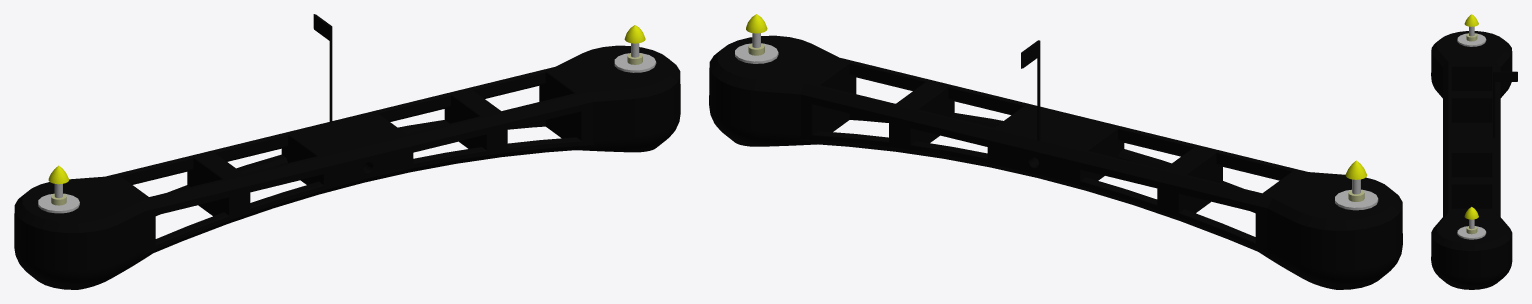
File: Palanca.fbx
The picture shows the model from 3 angles, left to right: view 1: azimuth 30°, elevation 25°; view 2: azimuth 150°, elevation 25°; view 3: azimuth 270°, elevation 25°; orthographic projection. The views are drawn at different scales.
Visible parts, largest first — view 1: Palanca:mesh1, Palanca:mesh2Saliente_Extruir2, Palanca1:mesh4Chaflán1; view 2: Palanca:mesh1, Palanca:mesh2Saliente_Extruir2, Palanca1:mesh4Chaflán1; view 3: Palanca:mesh1, Palanca:mesh2Saliente_Extruir2, Palanca1:mesh4Chaflán1, Palanca:mesh3Chaflán5face.
Part boxes in pixels (bbox=[...]): Palanca:mesh1: bbox=[14, 14, 680, 289]; Palanca:mesh2Saliente_Extruir2: bbox=[38, 43, 656, 213]; Palanca1:mesh4Chaflán1: bbox=[48, 25, 645, 184]; Palanca:mesh1: bbox=[709, 35, 1402, 289]; Palanca:mesh2Saliente_Extruir2: bbox=[735, 33, 1378, 210]; Palanca1:mesh4Chaflán1: bbox=[746, 14, 1367, 179]; Palanca:mesh1: bbox=[1431, 31, 1517, 289]; Palanca:mesh2Saliente_Extruir2: bbox=[1457, 26, 1486, 239]; Palanca1:mesh4Chaflán1: bbox=[1464, 14, 1478, 219]; Palanca:mesh3Chaflán5face: bbox=[1466, 33, 1477, 234].
Size of the model in its own units: 1.42 by 0.35 by 0.2399.
